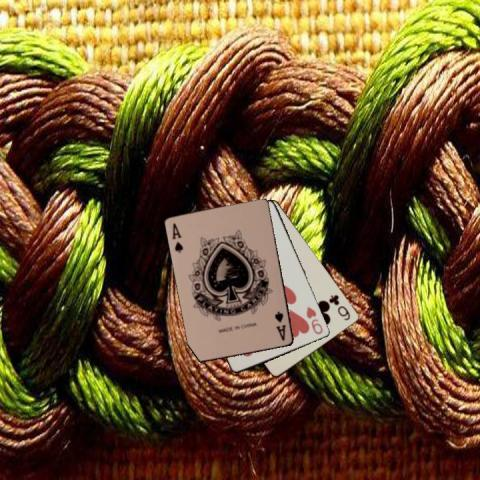6c: (326, 292, 352, 322)
9h: (303, 303, 325, 336)
As: (169, 220, 185, 255), (272, 309, 287, 342)
